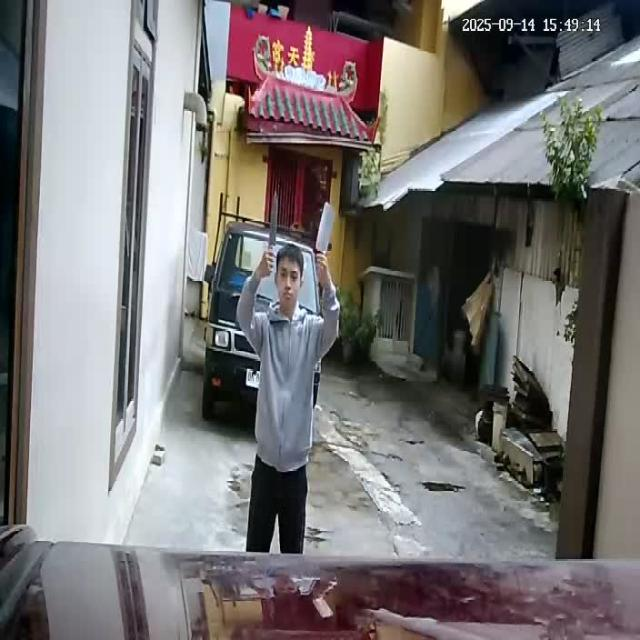senjata_tajam: (314, 201, 338, 255), (266, 188, 282, 247)
